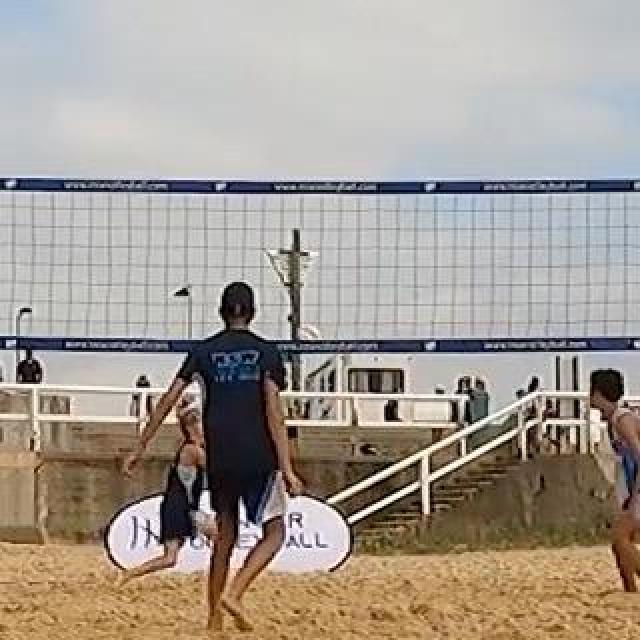volleyball: (294, 324, 322, 348)
